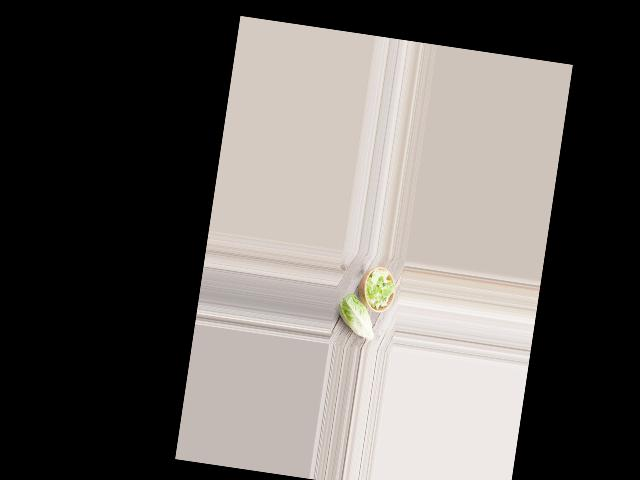lettuce: (334, 292, 379, 339)
